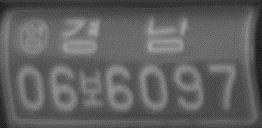0: (136, 62, 170, 111), (15, 64, 47, 111)
6: (49, 64, 79, 113), (104, 64, 133, 113)
7: (207, 61, 238, 114)
9: (172, 61, 205, 113)
경남_D: (61, 14, 192, 56)
보: (77, 67, 106, 111)
영: (18, 16, 52, 56)
